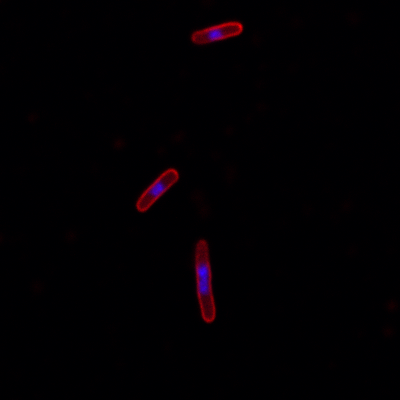Nalidixate: (134, 167, 180, 212), (188, 21, 244, 45)
Oblique: (192, 235, 217, 323)
